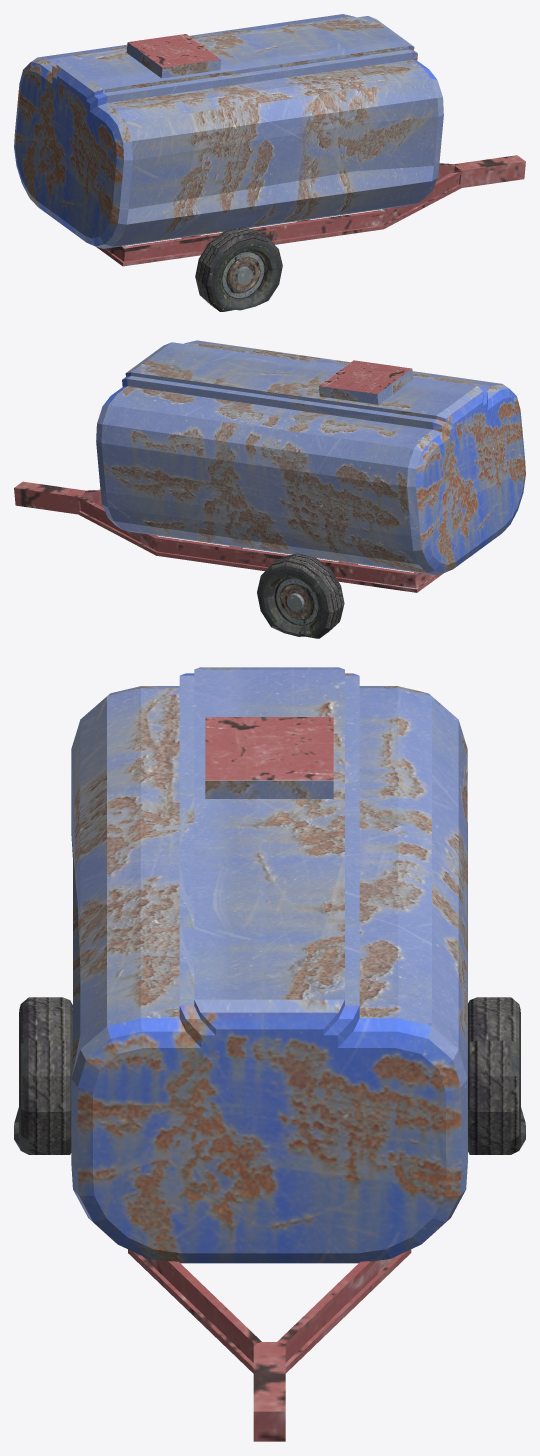
The model's file is SalvageTank.glb.
3 renders of one model, top to bottom at view 1: azimuth 30°, elevation 25°; view 2: azimuth 150°, elevation 25°; view 3: azimuth 270°, elevation 25°, orthographic. The views are drawn at different scales.
Parts seen in each view (by area): view 1: Tank; view 2: Tank; view 3: Tank.
Part boxes in pixels (<box>): Tank: <box>14,14,525,311</box>; Tank: <box>14,340,525,638</box>; Tank: <box>14,667,525,1441</box>.
Size of the model in its own units: 45.12 by 19.85 by 23.65.
1 material, 1 textured.
